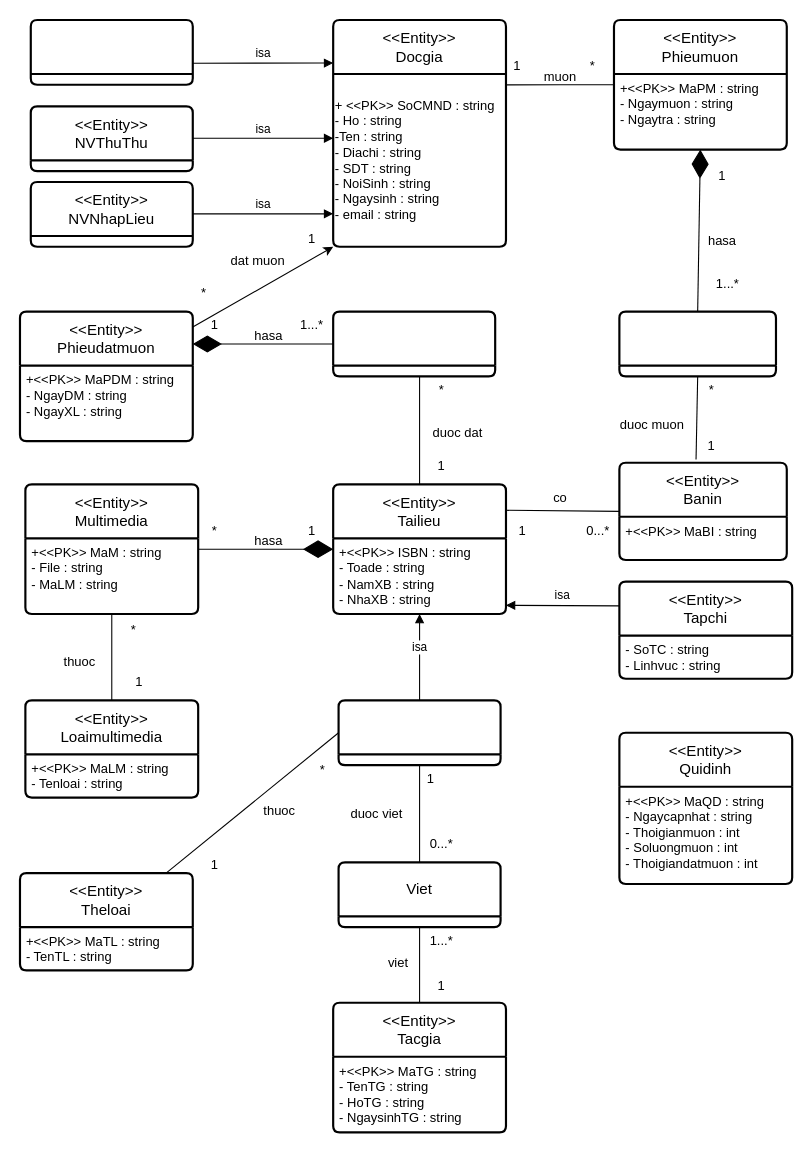
This 811x1160 diagram has some shape labels left out. Here are the shapes that lost their labels. From the top down, the centre of each, then its label:
At pixel 111 51: "<<Entity>> NVTiepTan".
At pixel 414 343: "<<Entity>> CTPhieudatmuon".
At pixel 697 343: "<<Entity>> CTPhieumuon".
At pixel 419 732: "<<Entity>> Sach".
